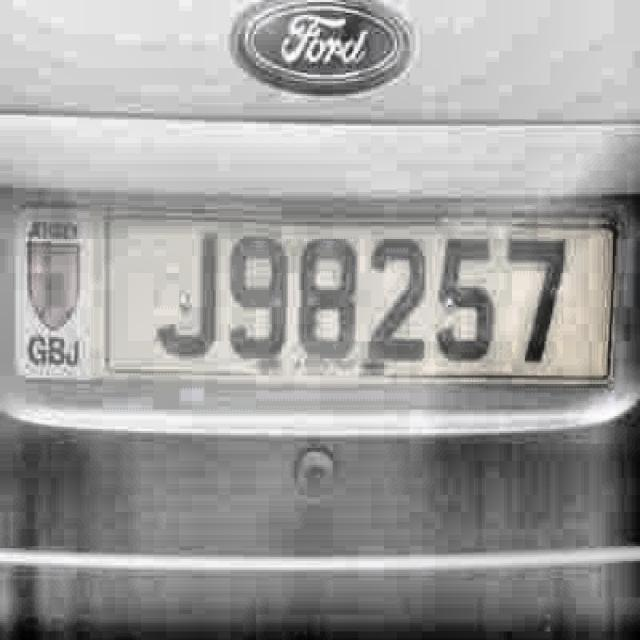license_plate: (13, 204, 613, 386)
